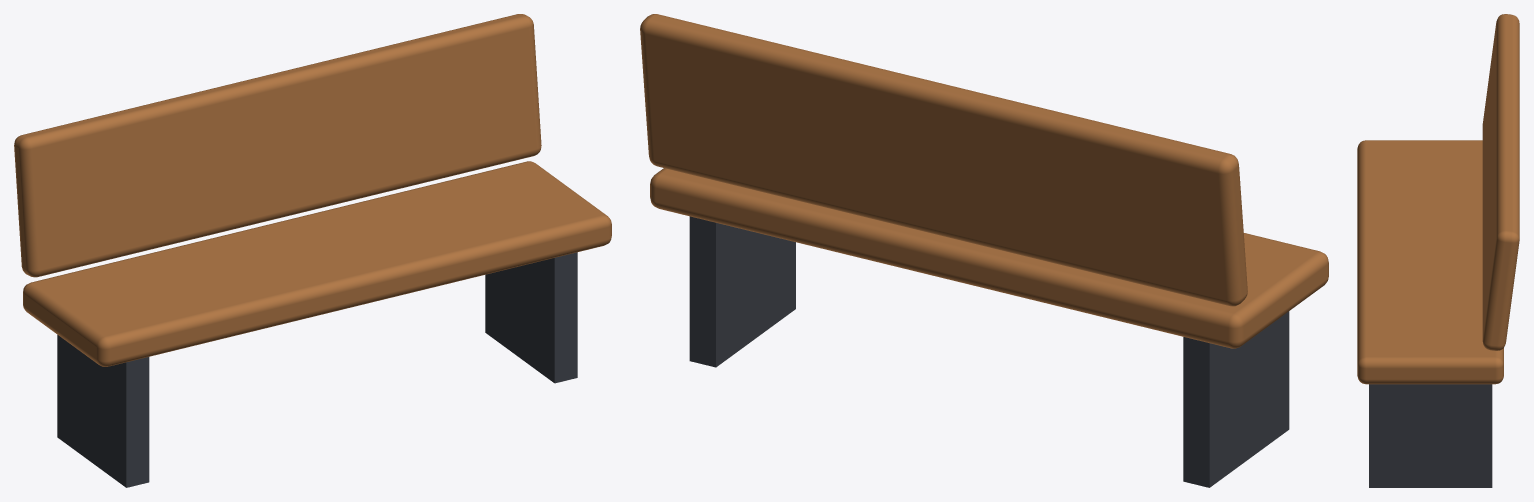
The model's file is bench.glb.
The picture shows the model from 3 angles, left to right: view 1: azimuth 30°, elevation 25°; view 2: azimuth 150°, elevation 25°; view 3: azimuth 270°, elevation 25°; orthographic projection. The views are drawn at different scales.
Parts seen in each view (by area): view 1: Bench; view 2: Bench; view 3: Bench.
Boxes of the visible parts, x1=… form: Bench: x1=14, y1=14, x2=611, y2=487; Bench: x1=640, y1=14, x2=1328, y2=487; Bench: x1=1357, y1=14, x2=1519, y2=487.
Bounding box in the file's own units: 1.8 × 1 × 0.5531.
